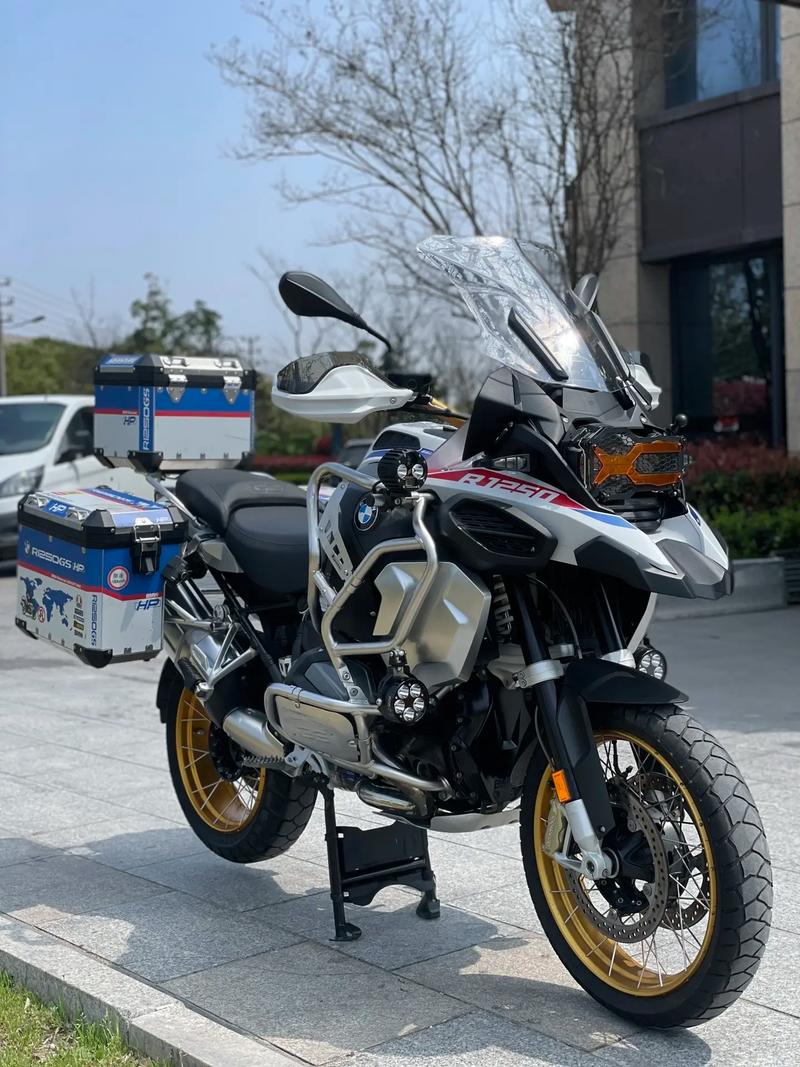摩托车: (43, 352, 778, 1040)
